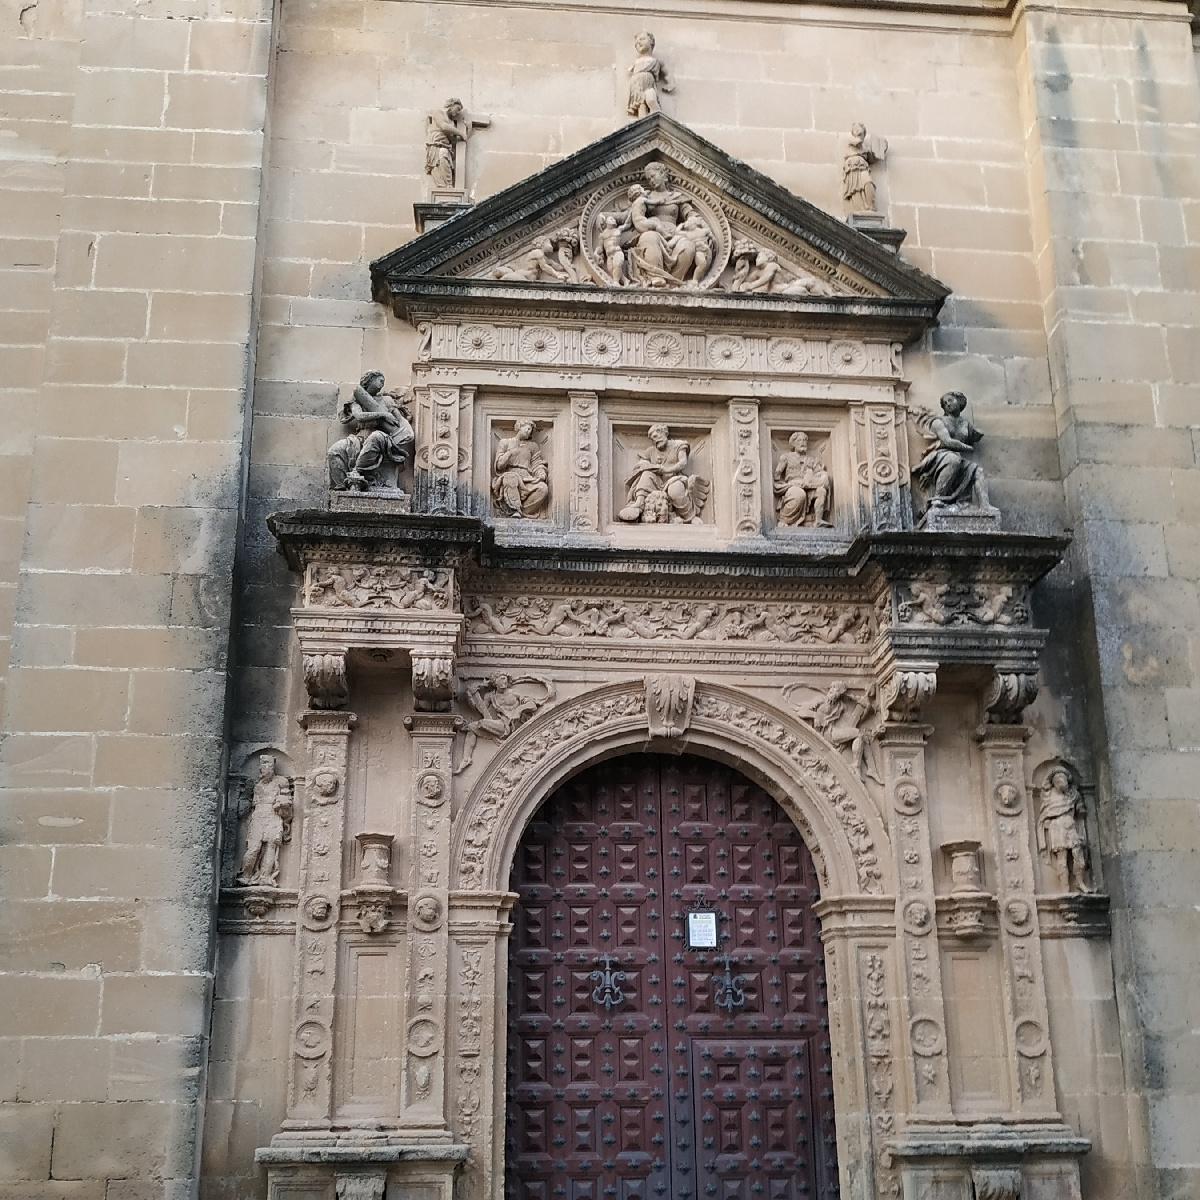arco-medio-punto: (492, 727, 853, 944)
fronton: (362, 107, 962, 342)
